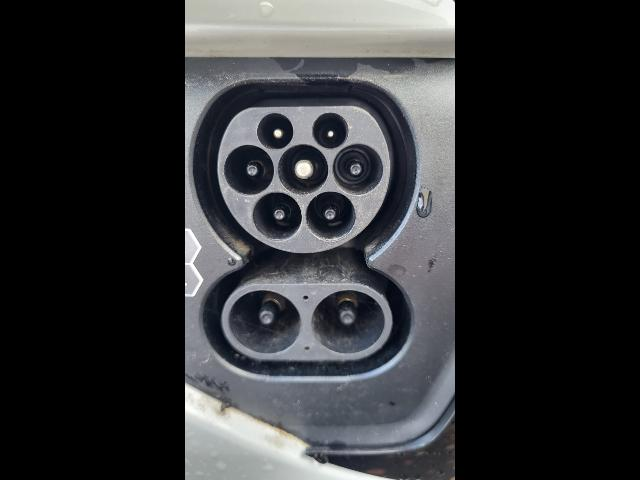inlet: (217, 106, 390, 254)
inlet-above-left: (257, 113, 294, 150)
inlet-above-right: (312, 113, 349, 149)
inlet-below-left: (252, 192, 302, 241)
inlet-below-right: (306, 192, 355, 242)
inlet-circle: (277, 145, 328, 196)
inlet-circle-left: (224, 145, 274, 196)
inlet-circle-right: (332, 144, 383, 195)
inlet-minus: (312, 290, 385, 354)
inlet-plus: (229, 290, 301, 354)
